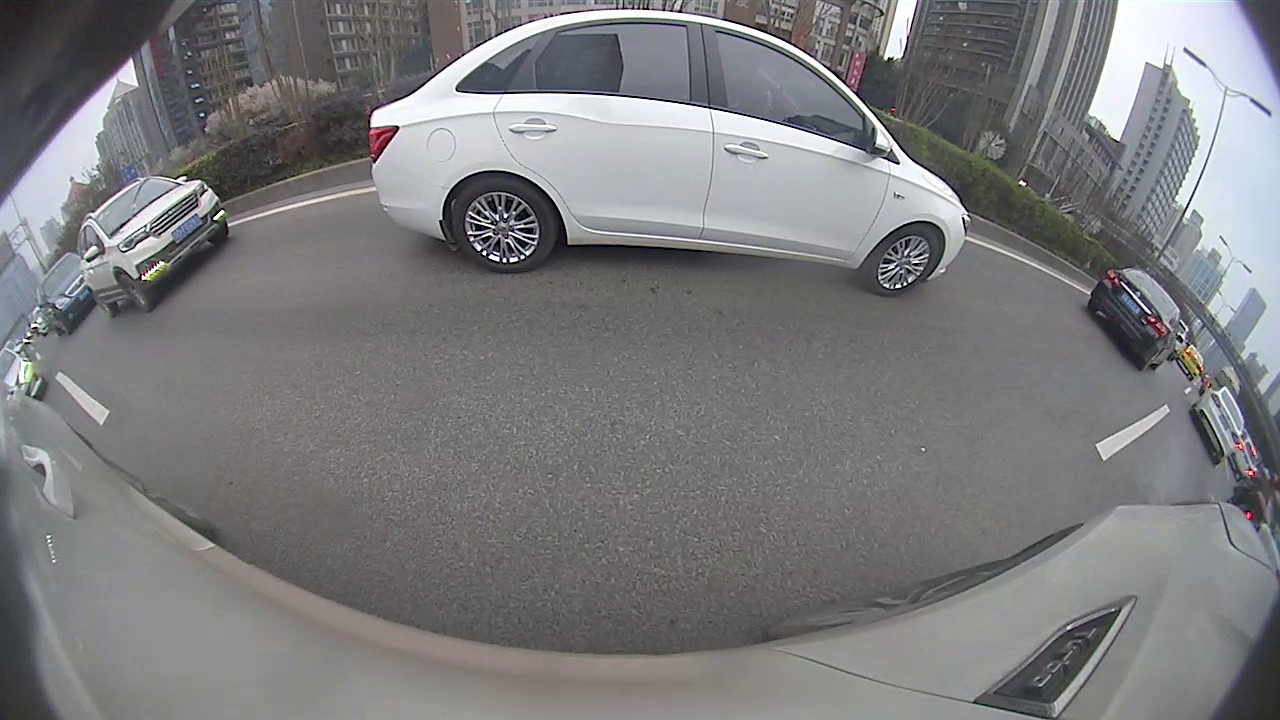car: (367, 9, 972, 299), (77, 175, 229, 317), (1086, 267, 1185, 373), (1190, 386, 1248, 464)
front: (864, 229, 948, 298), (116, 265, 147, 310)
rear: (453, 180, 556, 273)
